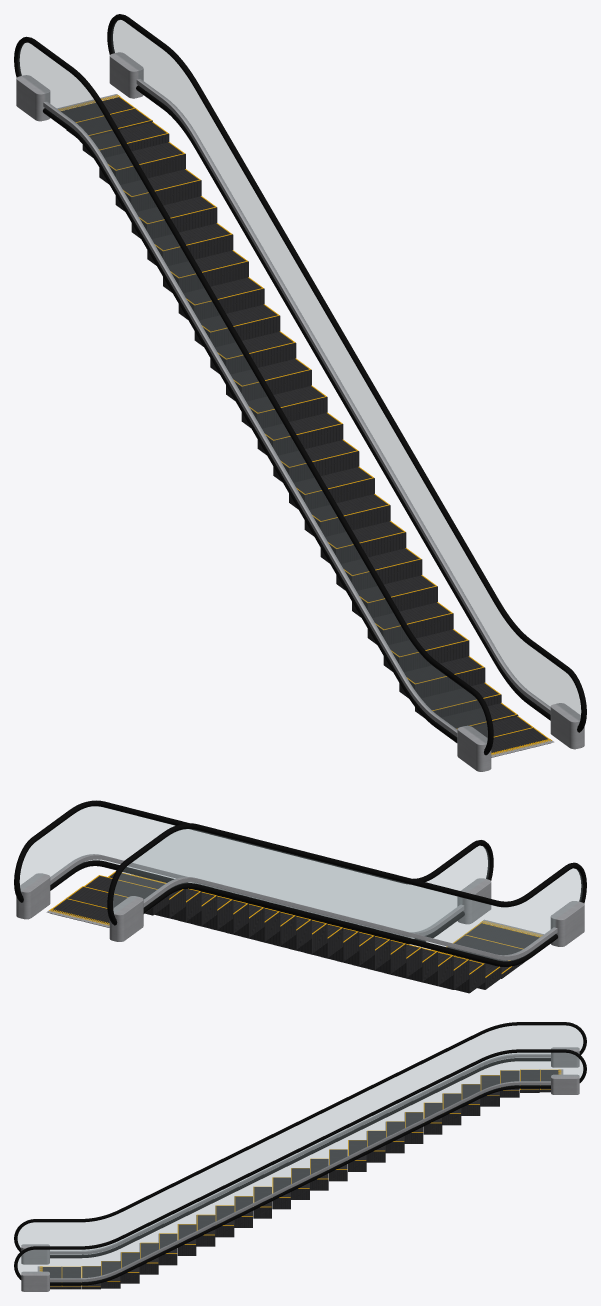
File: gteki_ik_escalator_w986_rise4388_a2856.glb
3 views of the same model, one above another, from view 1: azimuth 30°, elevation 25°; view 2: azimuth 150°, elevation 25°; view 3: azimuth 270°, elevation 25° (orthographic). The views are drawn at different scales.
Visible parts, largest first — view 1: VIS_steps, VIS_balustrades, VIS_moving_handrails, VIS_balustrade_shoes, VIS_newel_bases, VIS_demarcation; view 2: VIS_balustrades, VIS_steps, VIS_moving_handrails, VIS_newel_bases, VIS_balustrade_shoes, VIS_demarcation, VIS_comb_plates; view 3: VIS_balustrades, VIS_steps, VIS_moving_handrails, VIS_balustrade_shoes, VIS_newel_bases, VIS_demarcation.
Boxes of the visible parts, x1,y1,x2,y2 form: VIS_steps: [61, 97, 550, 757]; VIS_balustrades: [18, 20, 580, 743]; VIS_moving_handrails: [14, 14, 586, 755]; VIS_balustrade_shoes: [43, 79, 550, 736]; VIS_newel_bases: [16, 52, 584, 771]; VIS_demarcation: [76, 96, 549, 753]; VIS_balustrades: [20, 806, 582, 961]; VIS_steps: [50, 873, 539, 993]; VIS_moving_handrails: [14, 800, 586, 966]; VIS_newel_bases: [16, 873, 584, 946]; VIS_balustrade_shoes: [50, 854, 557, 960]; VIS_demarcation: [51, 871, 539, 977]; VIS_comb_plates: [46, 908, 543, 936]; VIS_balustrades: [17, 1025, 583, 1282]; VIS_steps: [42, 1070, 558, 1289]; VIS_moving_handrails: [14, 1022, 586, 1285]; VIS_balustrade_shoes: [50, 1054, 550, 1281]; VIS_newel_bases: [21, 1047, 579, 1291]; VIS_demarcation: [43, 1069, 558, 1286].
Size of the model in its own units: 1.51 by 5.42 by 11.57.
Materials: 5 (2 with a texture image).
